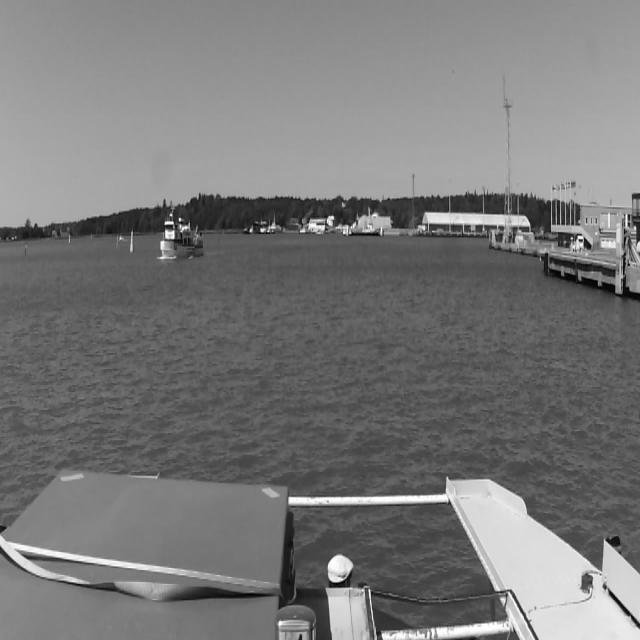buoy: (129, 230, 135, 252), (116, 235, 119, 246)
ship: (160, 214, 204, 262), (118, 234, 125, 242)
